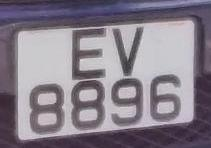6: (143, 68, 189, 128)
8: (23, 75, 69, 141), (65, 75, 112, 135)
9: (106, 73, 152, 130)
E: (68, 23, 113, 82)
V: (107, 23, 154, 81)
